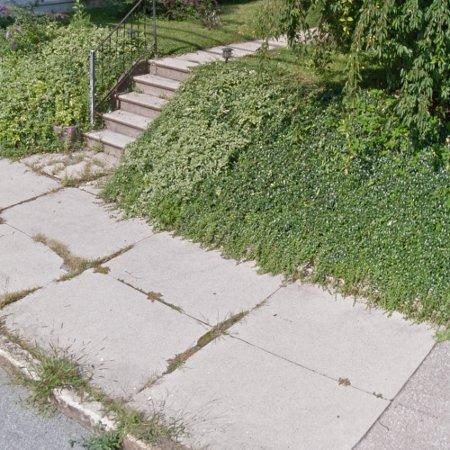stairs: (84, 46, 226, 157), (230, 41, 263, 57)
